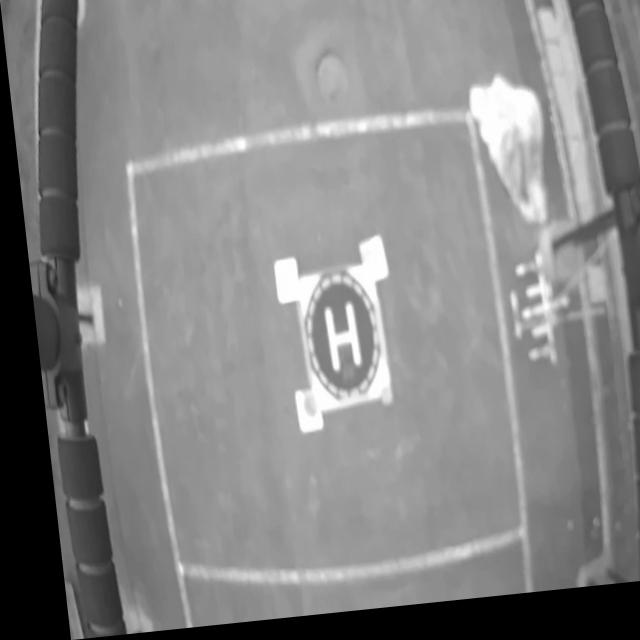Helipad: (316, 304, 355, 379)
